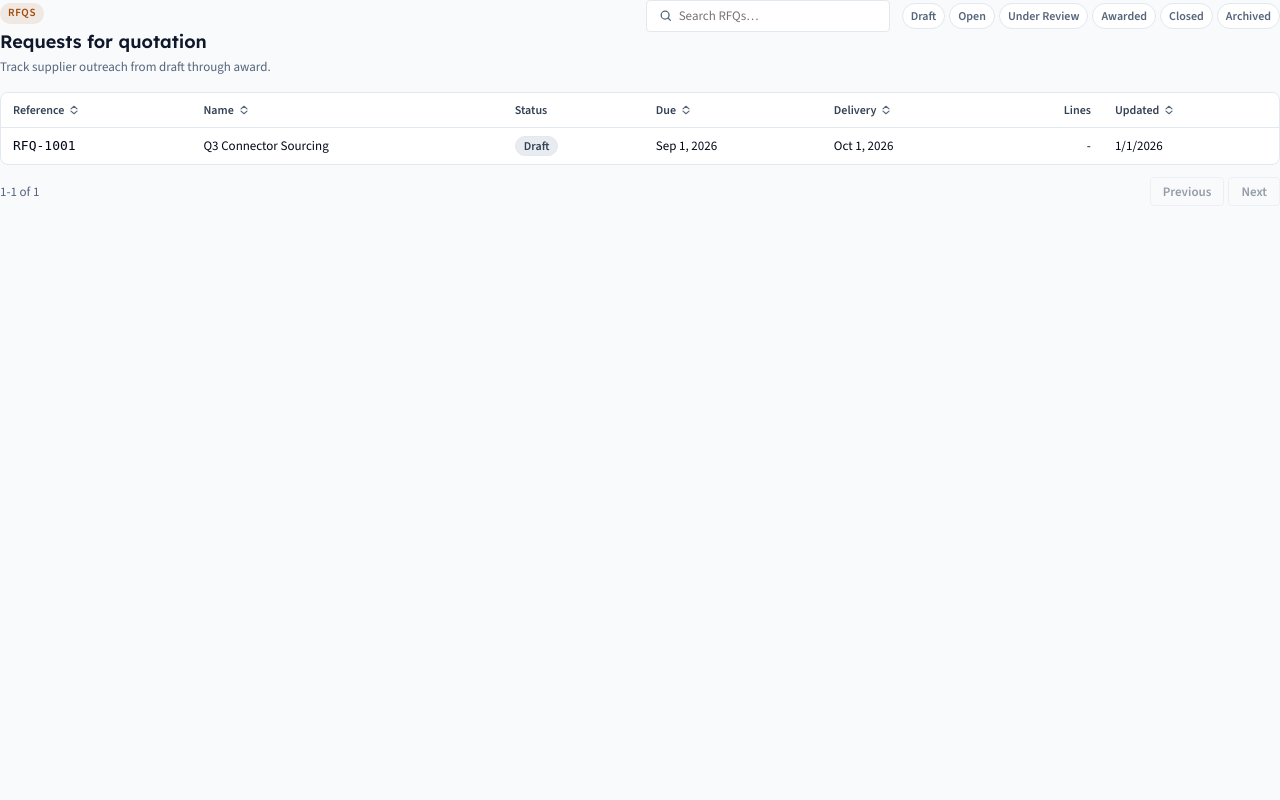
Test: RfqsPage › hides mutation controls for a viewer
Click the text "Q3 Connector Sourcing" at (266, 146), box [192,128,503,164]
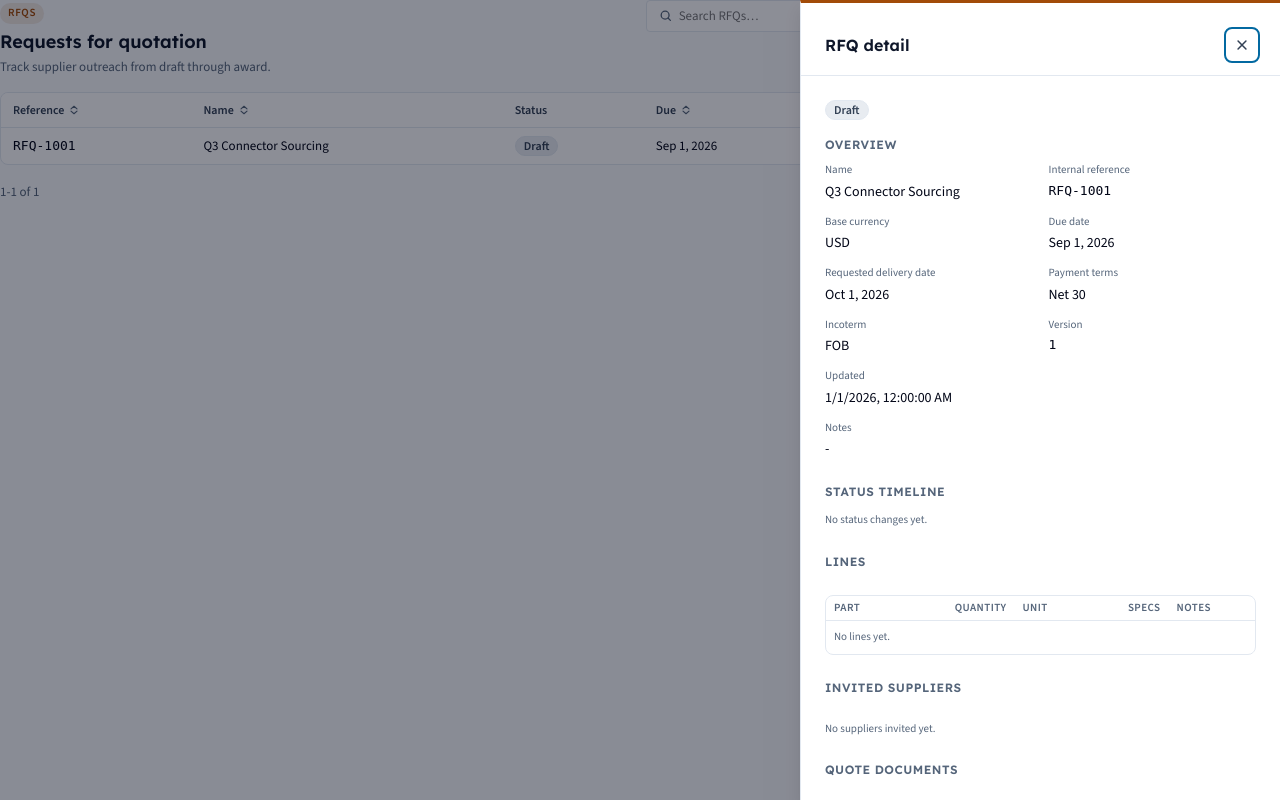
Now the heading "Status timeline" is shown, box [825,484,945,499]
